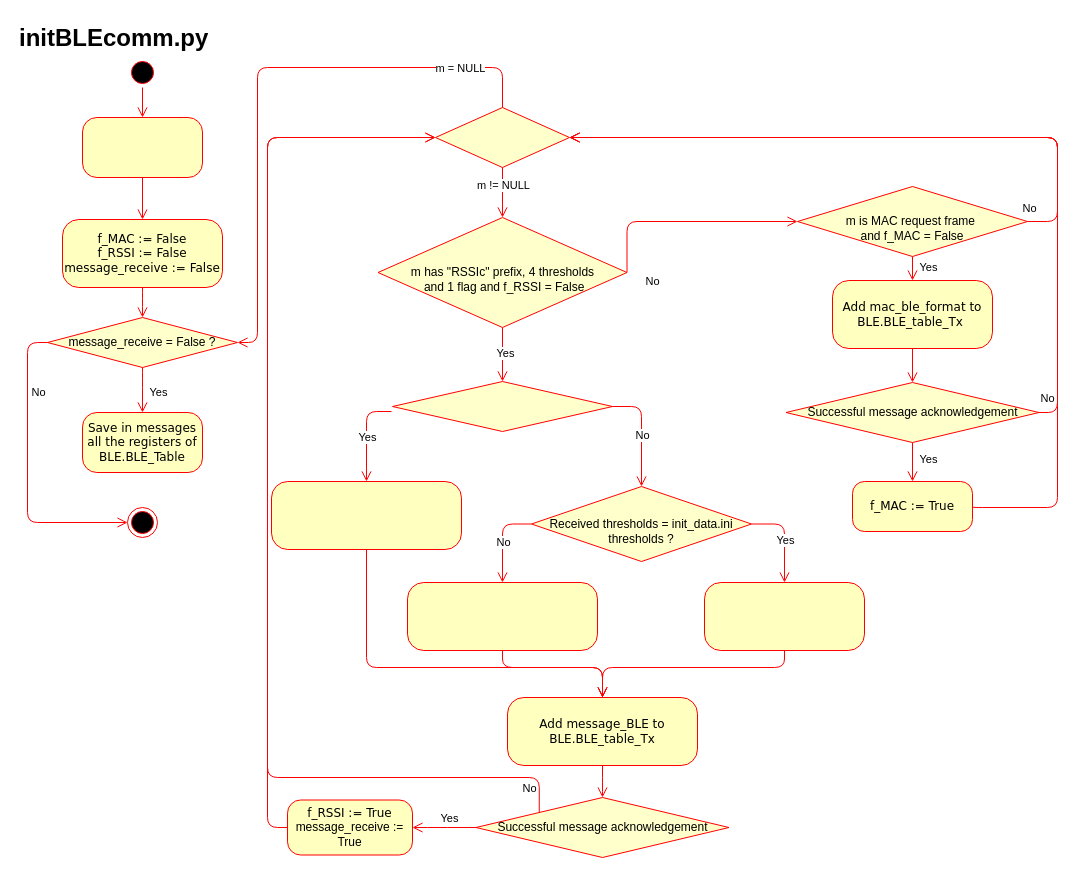
The diagram is 1085 pixels wide and 875 high, and some of its shapes have lost their labels. The shapes that lost their labels are listed below. From the top down, each one's centre as x and y in pixels, then its label:
pixel 142 147: Connect to database BLE.db
pixel 502 137: for m in messages
pixel 502 406: coincidence_flag = True
pixel 366 515: Update init_data.ini with the thresholds received. message_BLE := "WCON0"
pixel 502 616: message_BLE := "WRSSIa:" + init_data.ini thresholds
pixel 784 616: message_BLE := "WSO"
